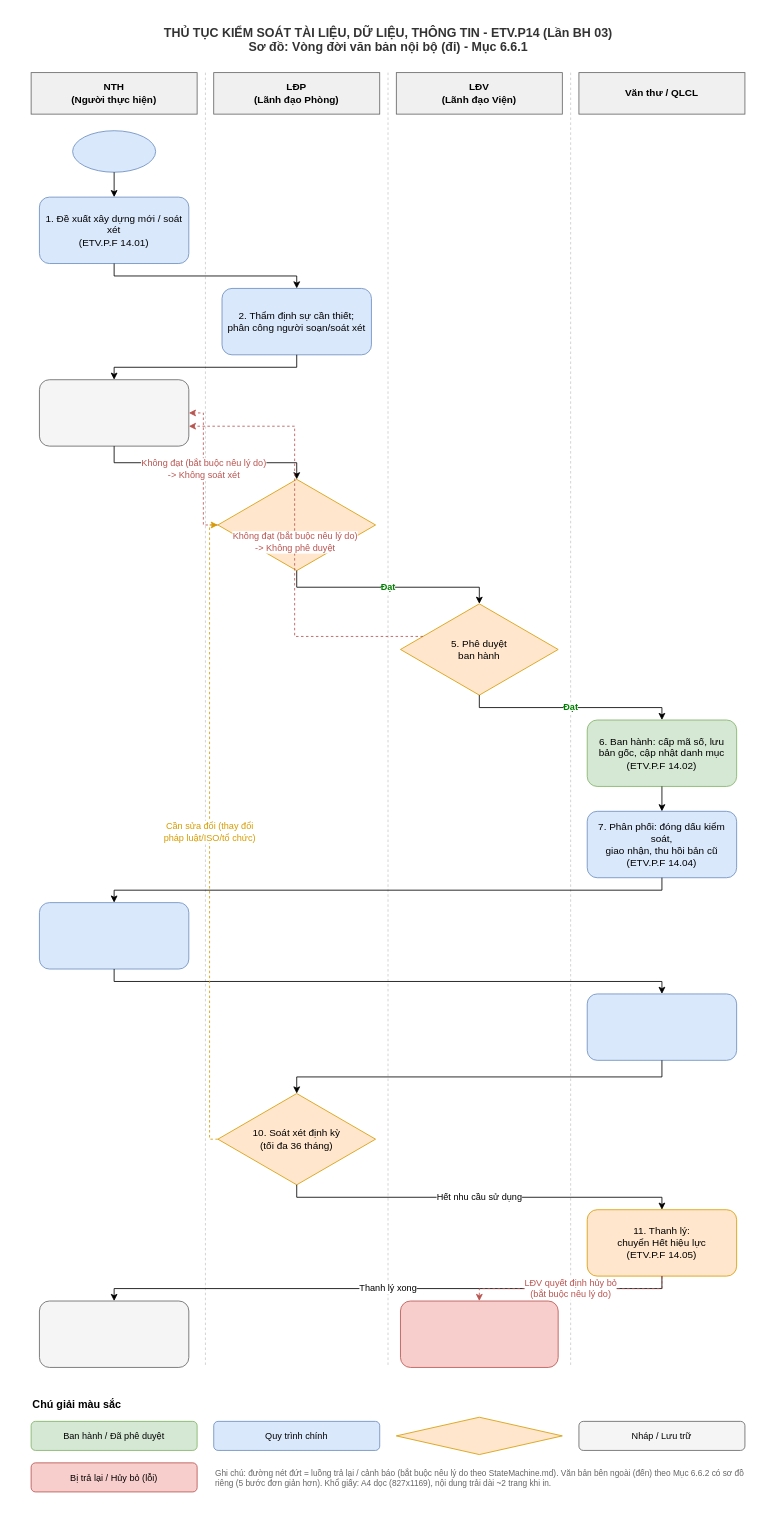
The diagram is 775 pixels wide and 1514 high, and some of its shapes have lost their labels. Each missing label, with the centre of its shape:
3. Soạn thảo / sửa đổi (status: Nháp): the point at 114,412
4. Soát xét kỹ thuật: the point at 296,524
8. Công bố: phổ biến áp dụng: the point at 114,935
9. Lưu bản gốc (bản in + điện tử): the point at 661,1026
Bắt đầu: the point at 114,151
Hủy bỏ khỏi hệ thống kiểm soát (LĐV quyết định): the point at 479,1333
Kết thúc: Lưu trữ theo ETV.P15: the point at 114,1333
Điểm quyết định / Cảnh báo: the point at 478,1435
